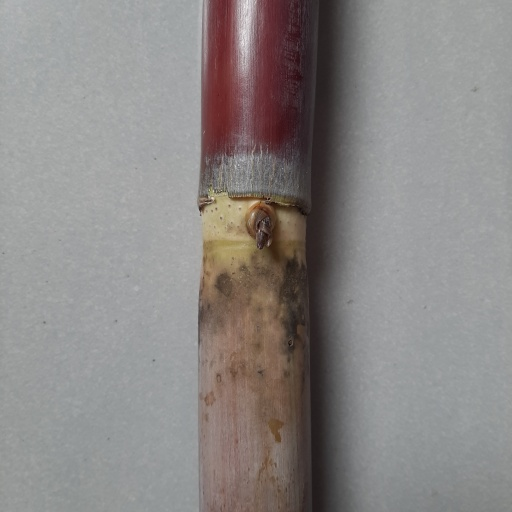Sprouted_Bud: (244, 201, 277, 252)
